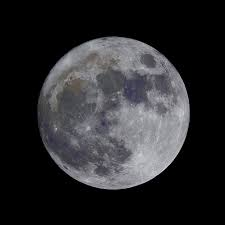moon: (36, 35, 192, 194)
